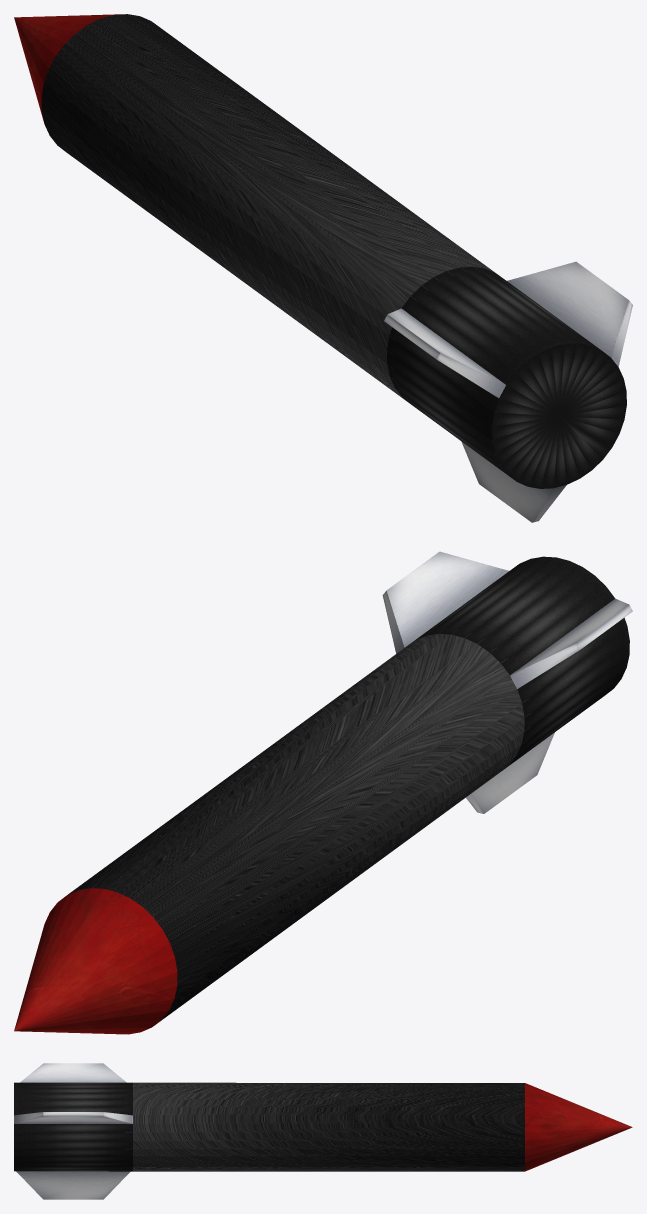
Rendered from super-missile.obj.
The picture shows the model from 3 angles, top to bottom: view 1: azimuth 30°, elevation 25°; view 2: azimuth 150°, elevation 25°; view 3: azimuth 270°, elevation 25°; orthographic projection. The views are drawn at different scales.
Size of the model in its own units: 0.2078 by 0.2012 by 1.
